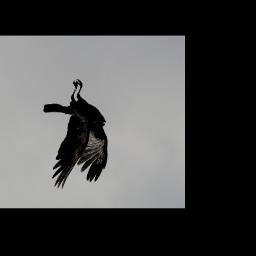Crow: (43, 76, 109, 190)
